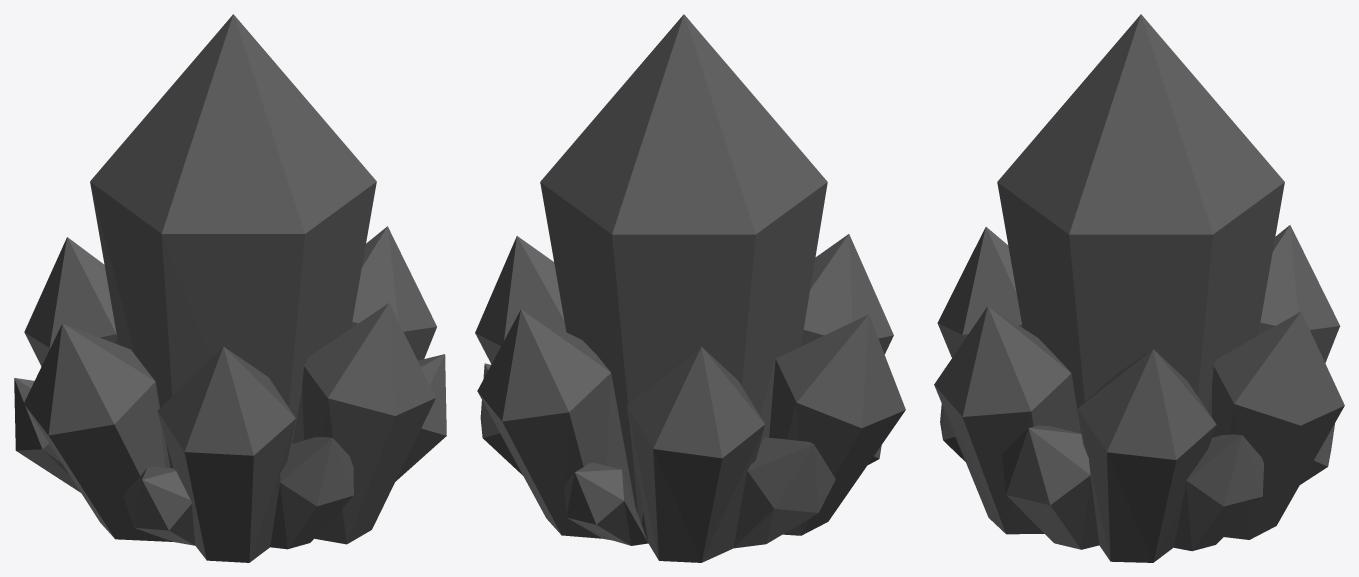
File: crystal_gray.obj
3 renders of one model, left to right at view 1: azimuth 30°, elevation 25°; view 2: azimuth 150°, elevation 25°; view 3: azimuth 270°, elevation 25°, orthographic.
Visible parts, largest first — view 1: Crystal_Cube; view 2: Crystal_Cube; view 3: Crystal_Cube.
Boxes of the visible parts, left/top/right/bottom form: Crystal_Cube: left=14, top=14, right=446, bottom=562; Crystal_Cube: left=475, top=14, right=905, bottom=562; Crystal_Cube: left=934, top=14, right=1344, bottom=562.
Bounding box in the file's own units: 0.8345 × 0.9795 × 0.7515.
